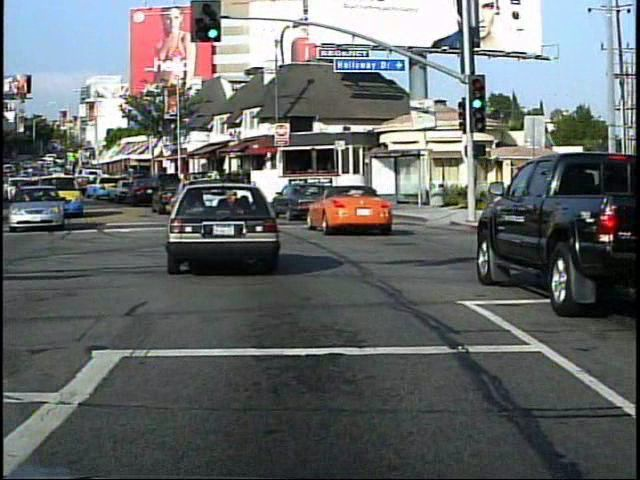person: (572, 186, 595, 248)
